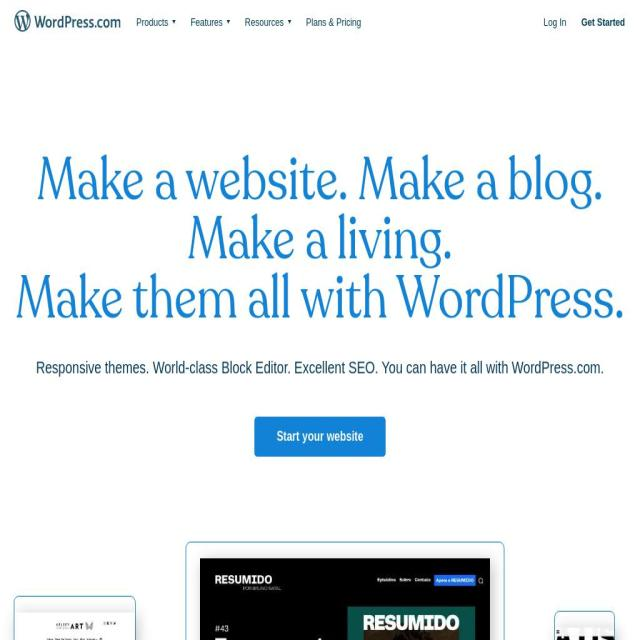button: (253, 416, 387, 458), (0, 0, 129, 38), (298, 0, 369, 38), (573, 0, 640, 38), (237, 0, 299, 38), (182, 0, 238, 38), (129, 0, 183, 38), (536, 0, 574, 38), (620, 22, 640, 45), (620, 22, 640, 45), (620, 22, 640, 45), (620, 22, 640, 45), (620, 22, 640, 45), (620, 22, 640, 45), (620, 22, 640, 45), (620, 22, 640, 45), (620, 22, 640, 45), (620, 22, 640, 45), (620, 22, 640, 45), (620, 22, 640, 45), (620, 22, 640, 45), (620, 22, 640, 45), (620, 22, 640, 45), (620, 22, 640, 45)
heading: (0, 0, 640, 640), (0, 0, 640, 640), (0, 272, 640, 332), (37, 154, 348, 214), (188, 212, 452, 272), (358, 154, 603, 214), (624, 28, 640, 42), (624, 28, 640, 42), (624, 28, 640, 42), (624, 28, 640, 42)
image: (199, 558, 490, 640), (14, 612, 135, 640), (15, 8, 120, 38), (554, 627, 614, 640)
text: (0, 357, 640, 378), (620, 22, 640, 35), (620, 22, 640, 35)
